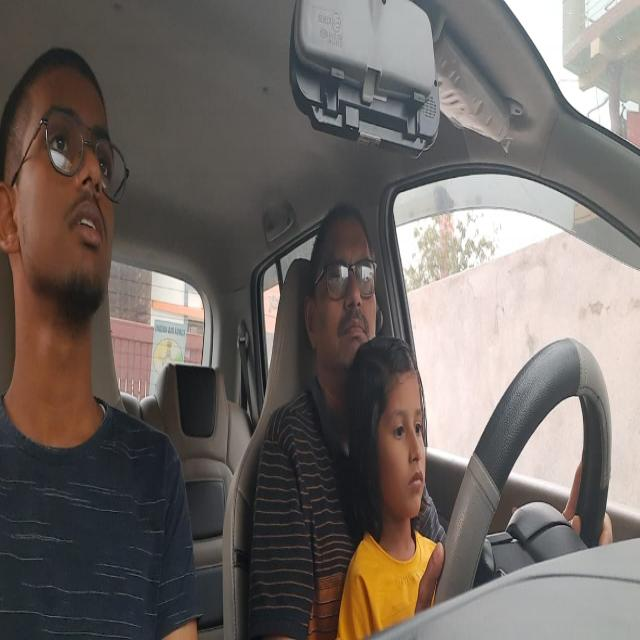child: (366, 357, 429, 528)
person: (3, 65, 121, 320), (306, 216, 377, 366)
